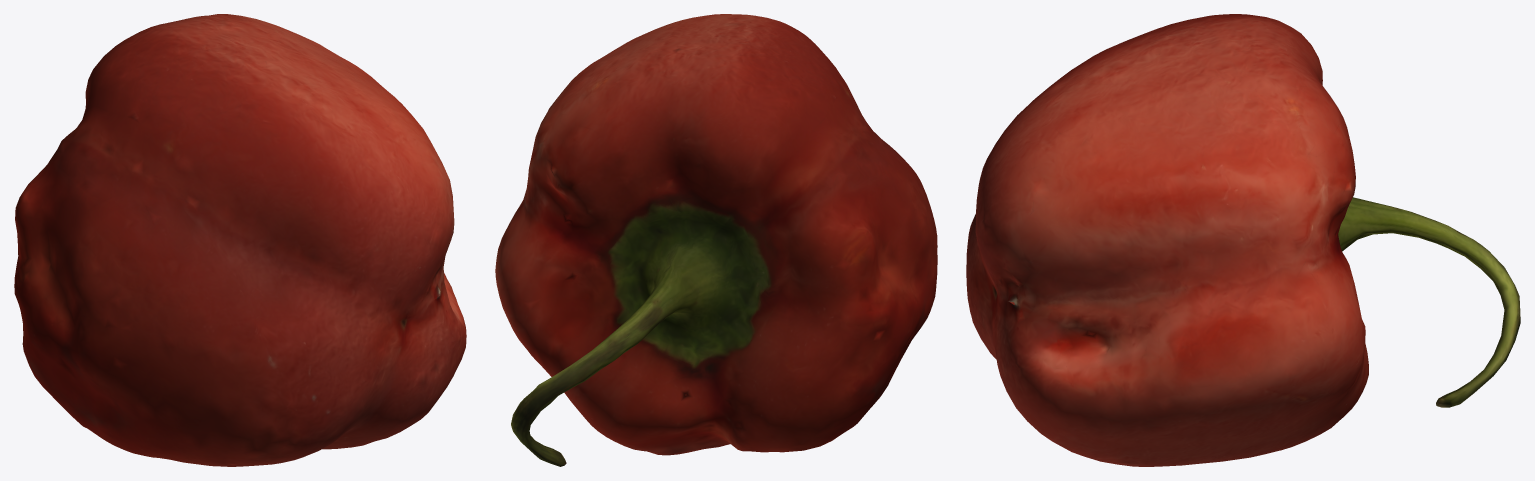
Rendered from pepper.obj.
3 renders of one model, left to right at view 1: azimuth 30°, elevation 25°; view 2: azimuth 150°, elevation 25°; view 3: azimuth 270°, elevation 25°, orthographic.
Parts seen in each view (by area): view 1: papryka_1_model.001; view 2: papryka_1_model.001; view 3: papryka_1_model.001.
Part boxes in pixels (bbox=[...]): papryka_1_model.001: bbox=[14, 14, 466, 466]; papryka_1_model.001: bbox=[495, 14, 937, 466]; papryka_1_model.001: bbox=[966, 14, 1520, 466].
Bounding box in the file's own units: 0.1363 × 0.1359 × 0.1707.
